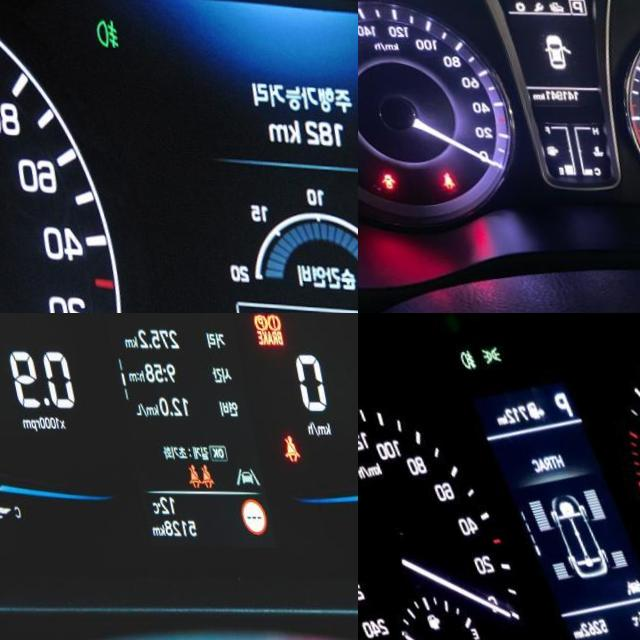Doors: (368, 172, 383, 188)
FrontFogLight: (90, 15, 118, 48), (454, 345, 474, 369)
LaneCenteringOff: (218, 464, 245, 485)
SideLamp: (475, 340, 500, 364)
